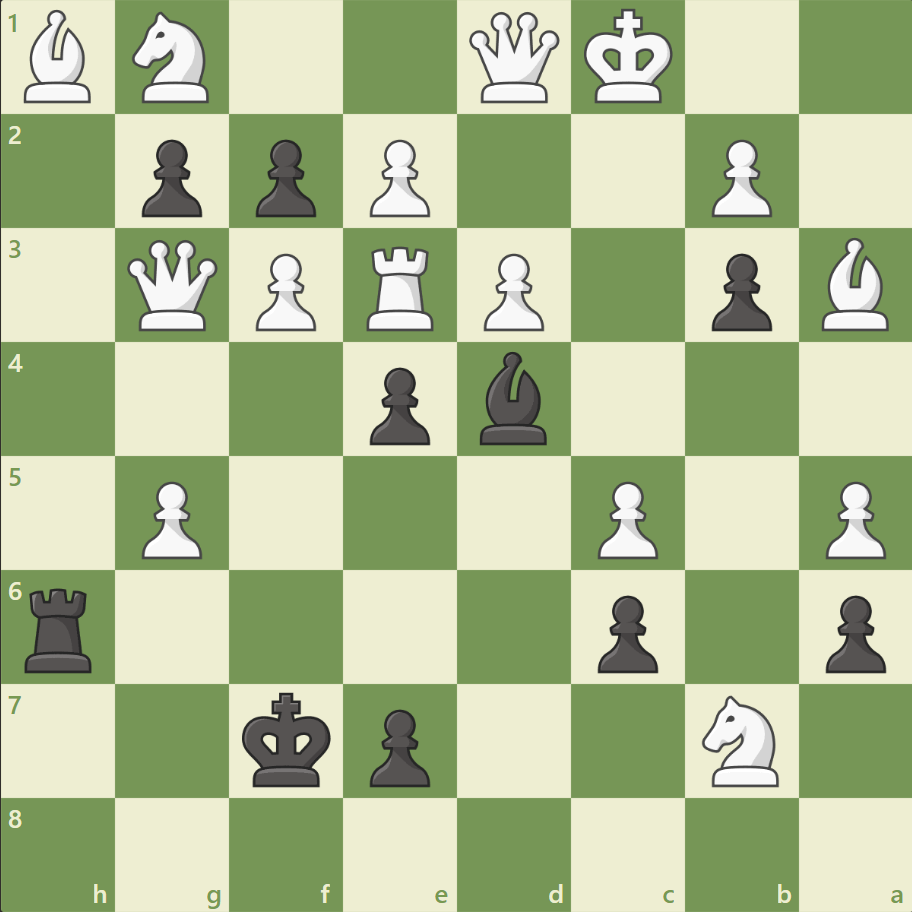B: (812, 233, 896, 336), (17, 6, 101, 109)
K: (579, 4, 679, 112)
N: (124, 7, 222, 110), (692, 688, 789, 791)
P: (133, 473, 208, 564), (474, 246, 549, 337), (247, 246, 322, 337), (701, 132, 776, 223), (815, 473, 889, 564), (588, 473, 662, 564), (361, 132, 435, 223)
Q: (124, 236, 223, 335), (464, 9, 563, 108)
R: (360, 239, 442, 336)
b: (471, 347, 555, 449)
k: (238, 685, 338, 793)
p: (701, 246, 776, 337), (247, 132, 322, 223), (133, 132, 208, 223), (361, 700, 435, 791), (815, 586, 889, 677), (588, 586, 662, 677), (361, 359, 435, 450)
r: (19, 579, 102, 676)
